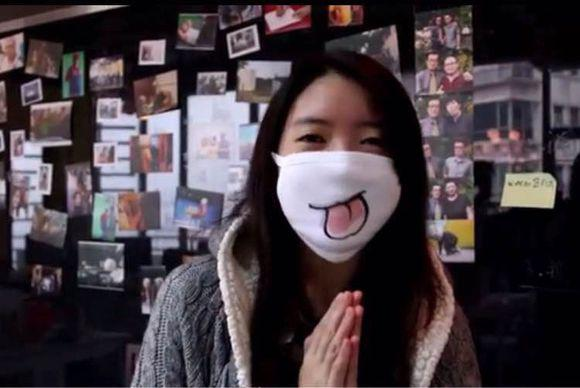OK: (281, 119, 401, 239)
